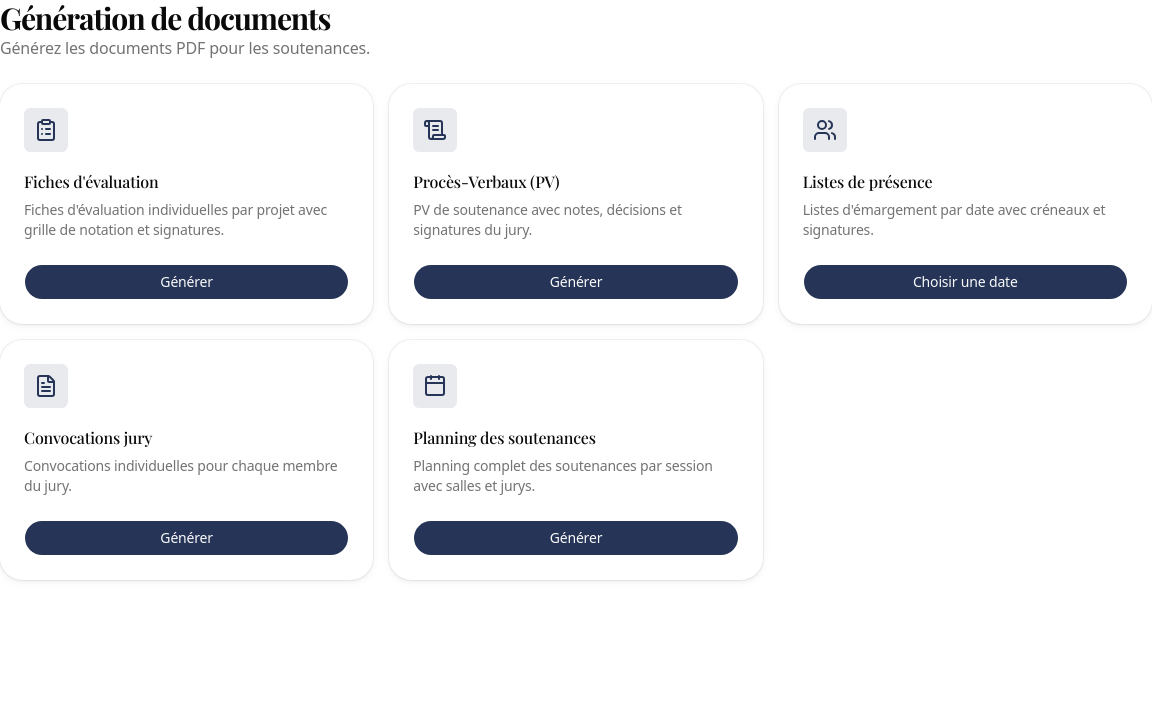
Test: Documents (Coordinator) › cancels picker dialog without generating
The width and height of the screenshot is (1152, 720).
What coordinates should you click on to do the following:
click the 1st button "Générer"
I would click on:
 (187, 282)
Its box is 24,264 -> 349,300.
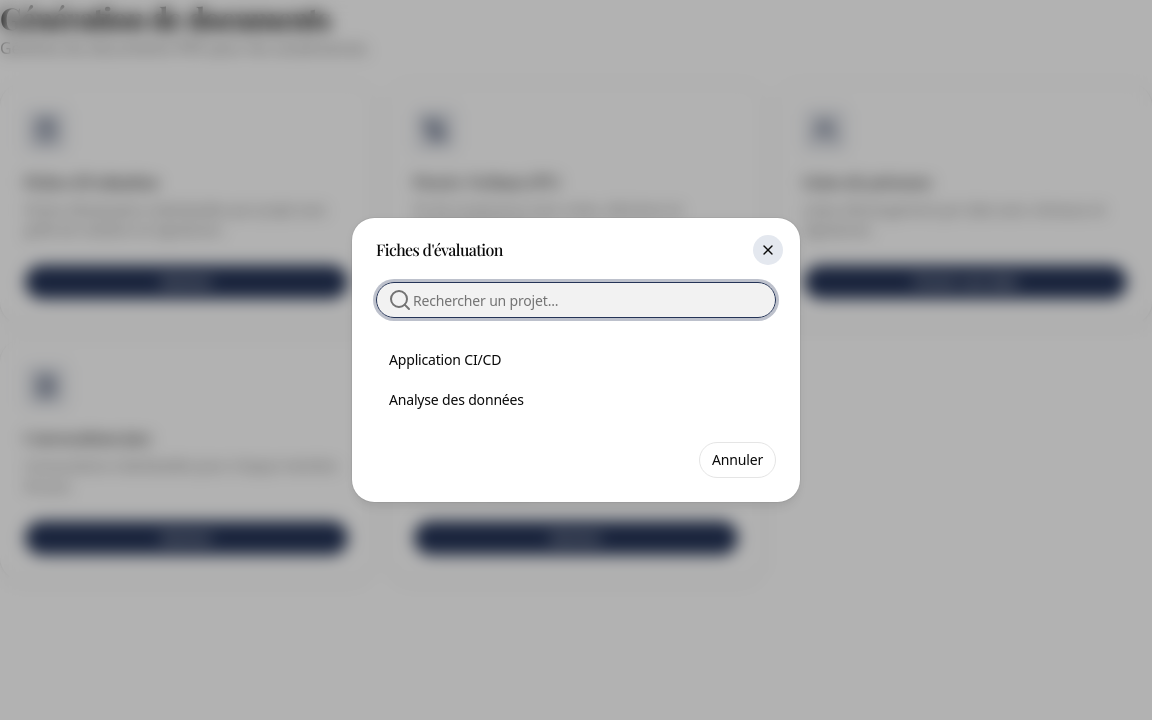
Expected: the dialog with test id "coord-documents-picker-dialog" is shown, 352,218 -> 800,502
What coordinates should you click on to do the following:
click the button with test id "coord-documents-picker-cancel"
I would click on:
 (738, 460)
Its box is 699,442 -> 776,478.
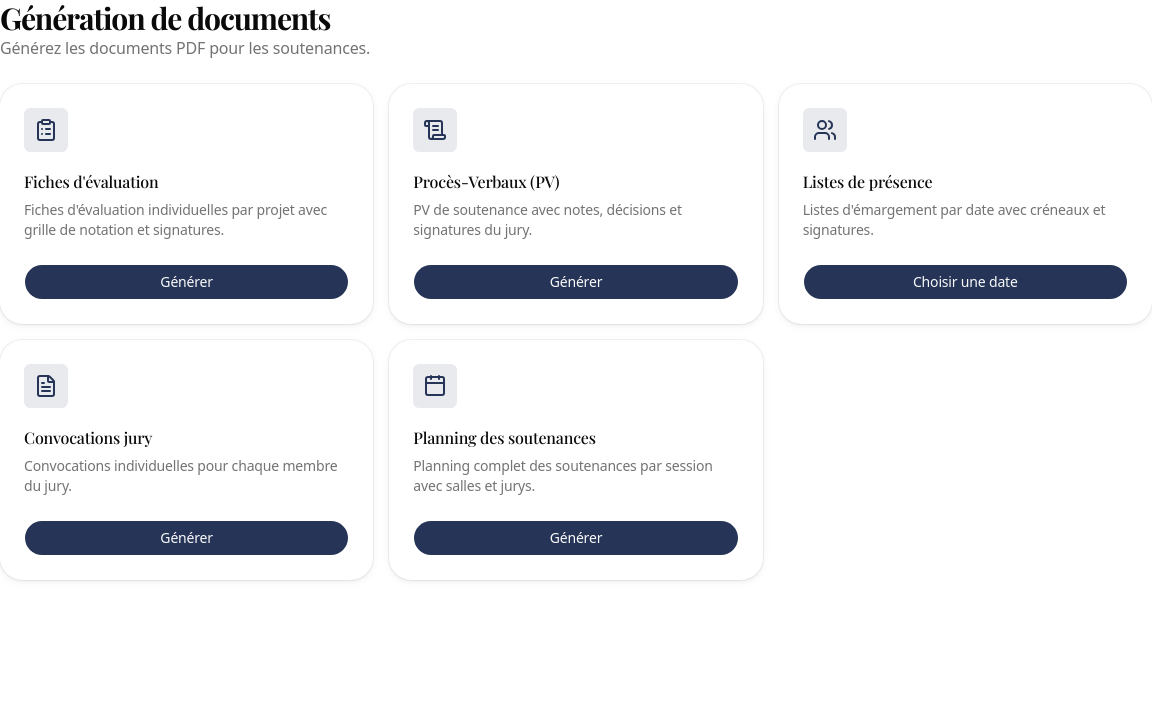
Expected: the dialog with test id "coord-documents-picker-dialog" is gone
